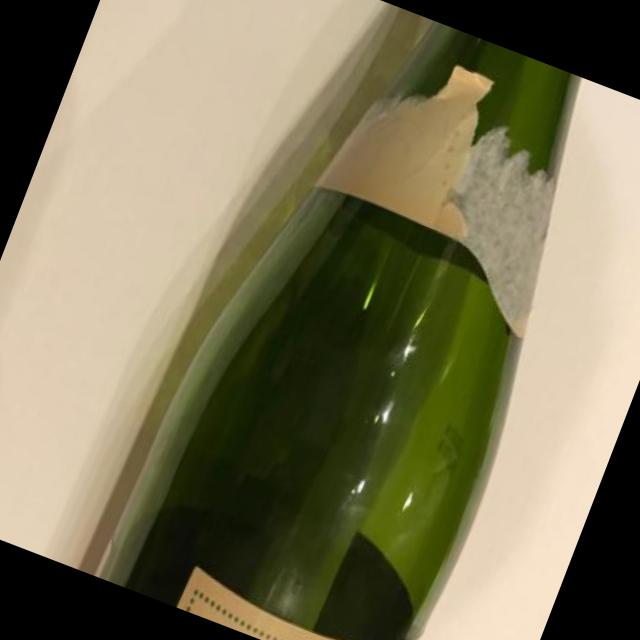BotolKaca: (90, 0, 637, 640)
